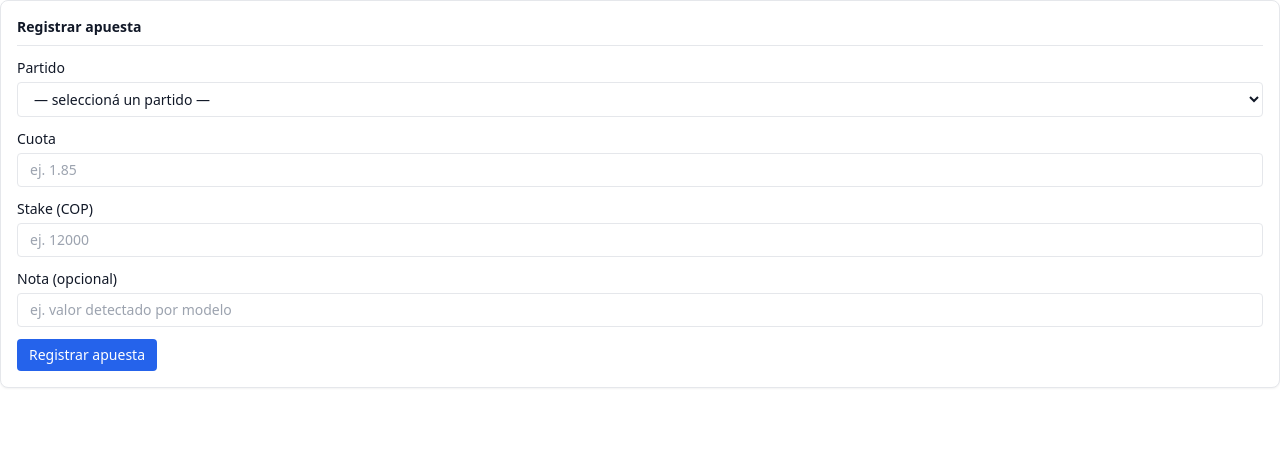
Scenario: BetForm (4.5) › muestra el selector de resultado con nombres de equipos al elegir partido
Select "2026-06-15 · Argentina vs Brasil" in the dropdown labelled "Partido" at (640, 100), box [17,82,1263,117]
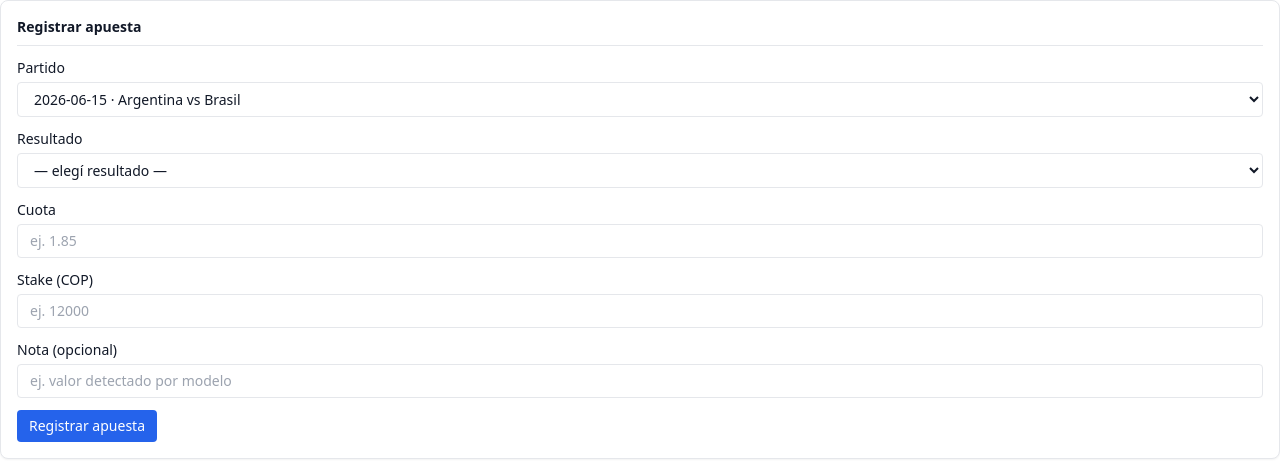
expect the dropdown labelled "Resultado" is shown: met, box [17,153,1263,188]
